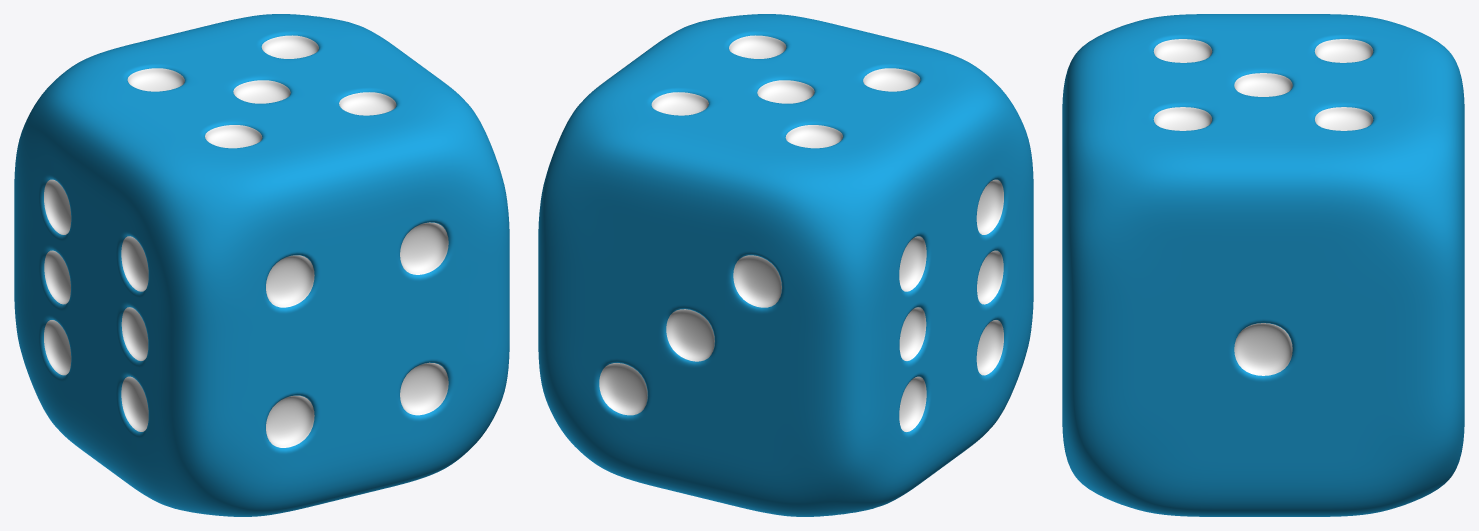
File: Azul.fbx
3 views of the same model, side by side, from view 1: azimuth 30°, elevation 25°; view 2: azimuth 150°, elevation 25°; view 3: azimuth 270°, elevation 25° (orthographic). The views are drawn at different scales.
Visible parts, largest first — view 1: Puntos.002; view 2: Puntos.002; view 3: Puntos.002.
Part boxes in pixels (x1,y1,x2,y2): Puntos.002: [14, 14, 509, 516]; Puntos.002: [538, 14, 1033, 516]; Puntos.002: [1062, 14, 1464, 516].
Bounding box in the file's own units: 200 × 200 × 200.
